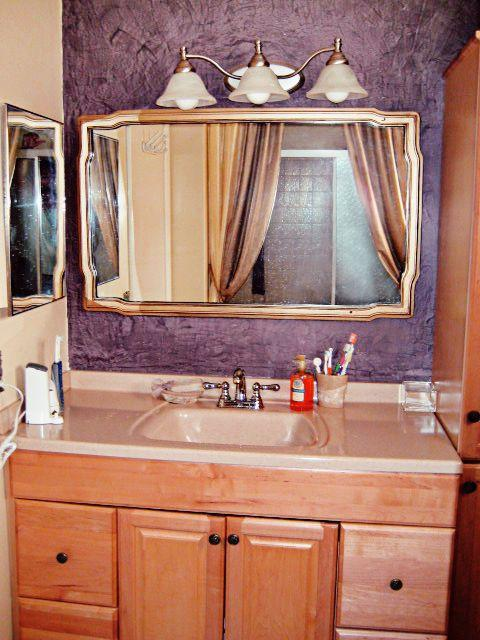Lavamanos: (131, 365, 333, 459)
